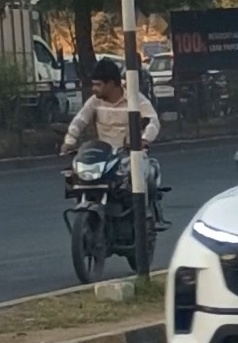BikeWithRider: (47, 53, 177, 288)
NoHelmet: (85, 55, 129, 103)
